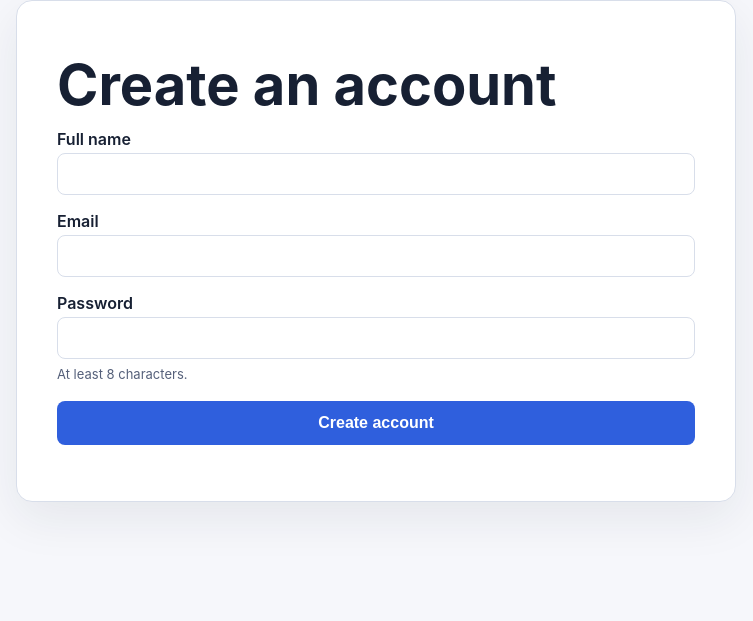
Test case: register page form › shows an accessible error alert with the real message and re-enables the button on failure
Step 1. Type "Test User" into the field labelled "Full name" → (376, 174), box [57,153,695,195]
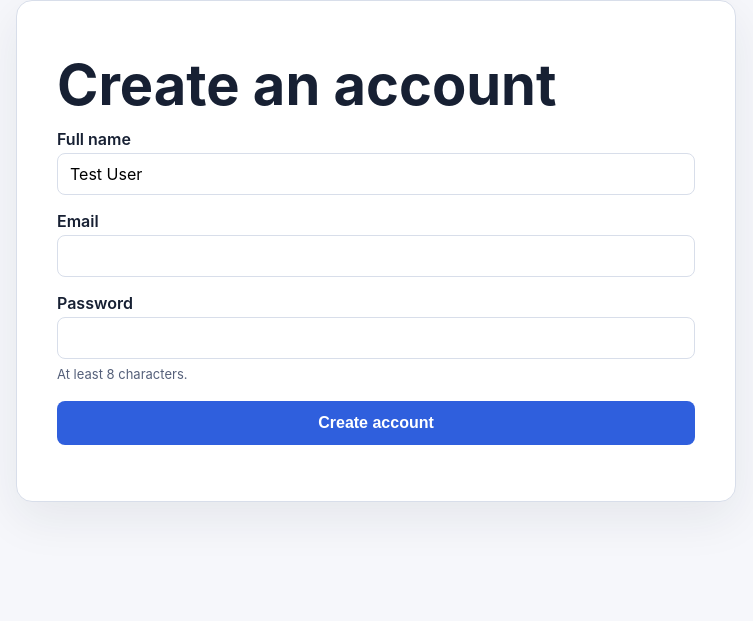
Step 2. Type "test@example.com" into the field labelled "Email" → (376, 256), box [57,235,695,277]
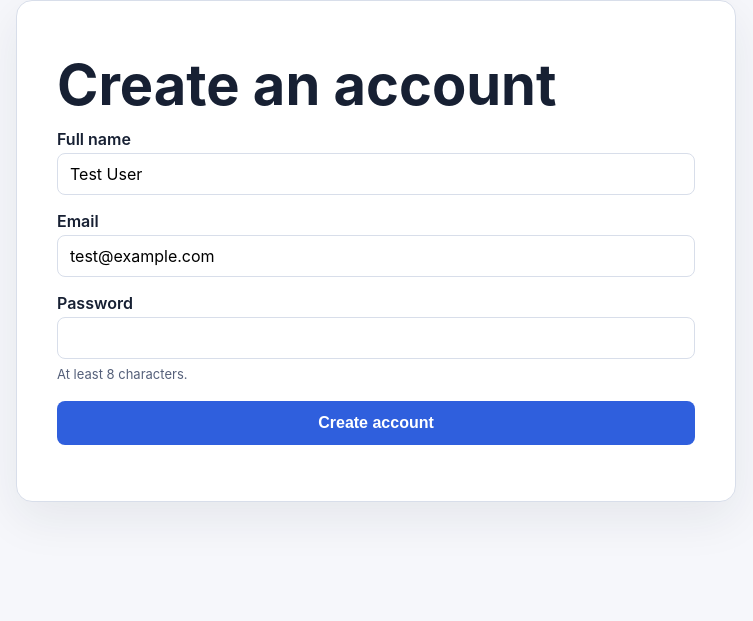
Step 3. Type "a-real-password" into the password field labelled "Password" → (376, 338), box [57,317,695,359]
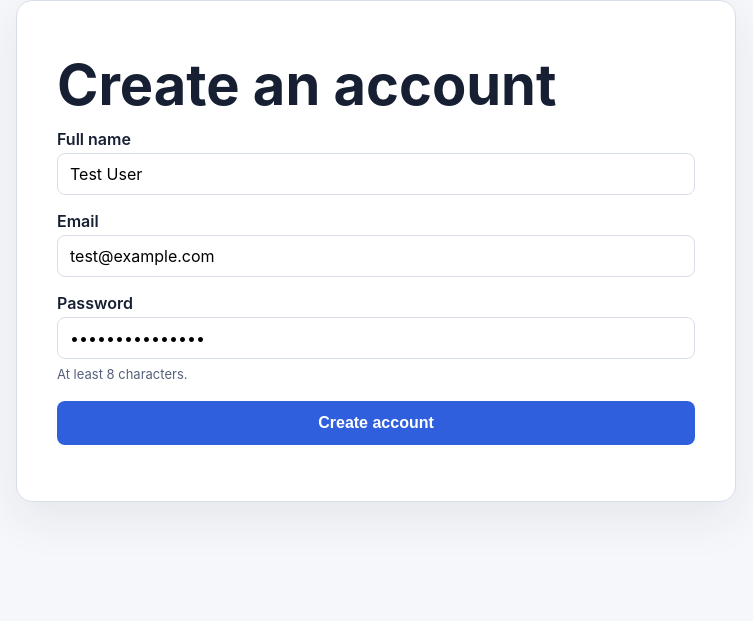
Step 4. Click the button "Create account" → (376, 423), box [57,401,695,445]
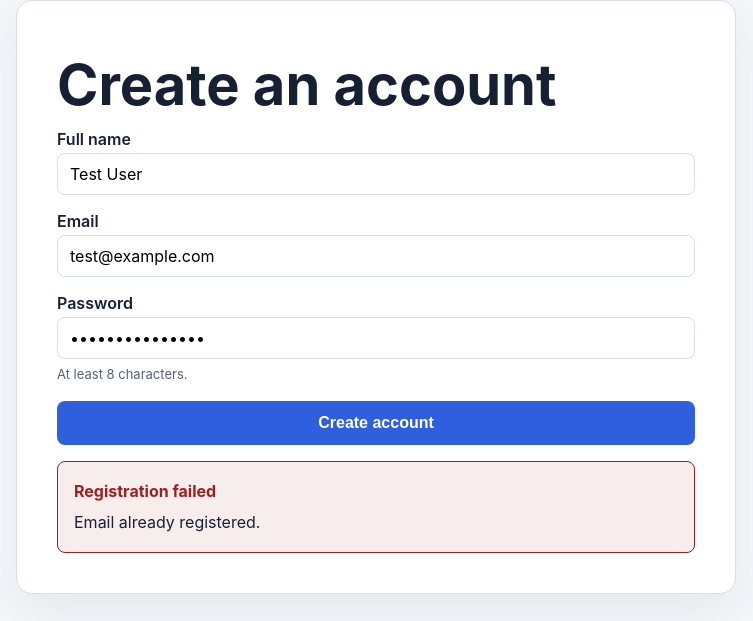
expect the message shows "Email already registered.": met, box [74,512,260,532]
